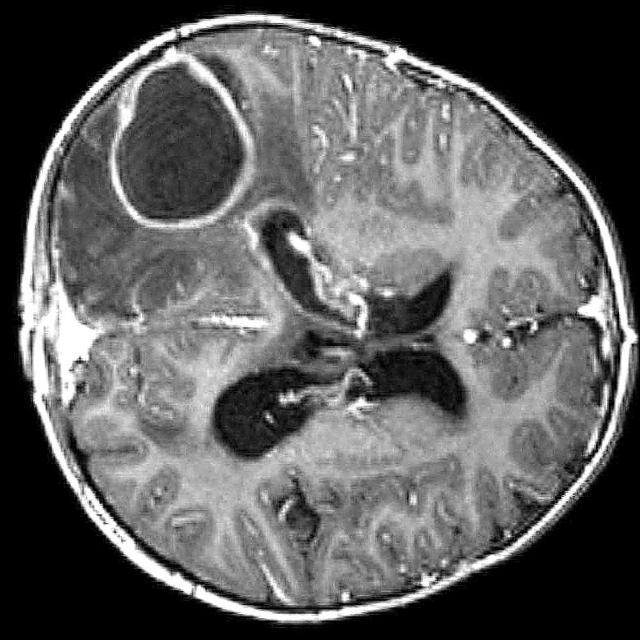Tumor: (212, 203, 468, 474), (109, 48, 259, 234)
